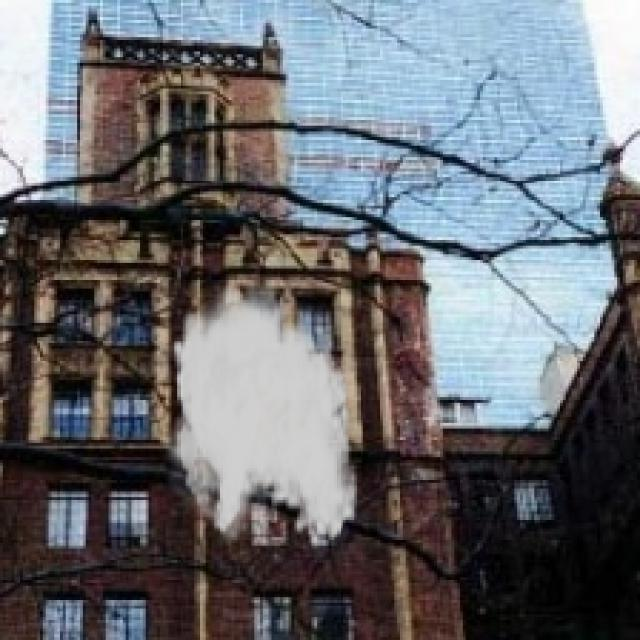Smoke: (160, 272, 360, 552)
